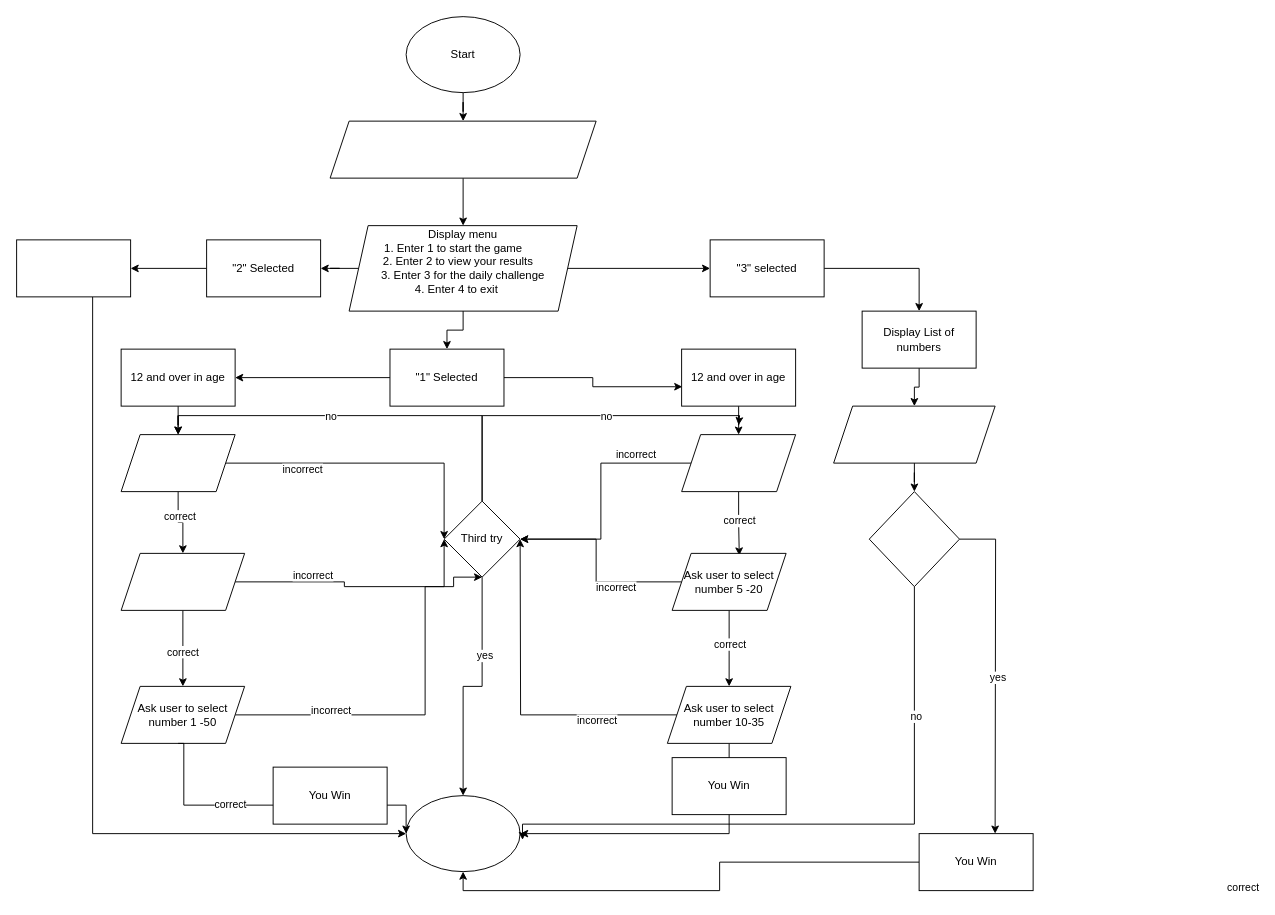
This 1275x915 diagram has some shape labels left out. Here are the shapes that lost their labels. From the top down, the box of each, then its label:
(329, 120, 596, 178): User to input name and age
(16, 239, 131, 297): Display Results
(833, 405, 995, 463): User to select a number
(120, 434, 235, 492): Ask user to select number 1 -15
(681, 434, 796, 492): Ask user to select number 1 -10
(868, 491, 960, 587): Does user number match random?
(120, 552, 245, 610): Ask user to select number 1 -30
(405, 795, 520, 872): Stop
